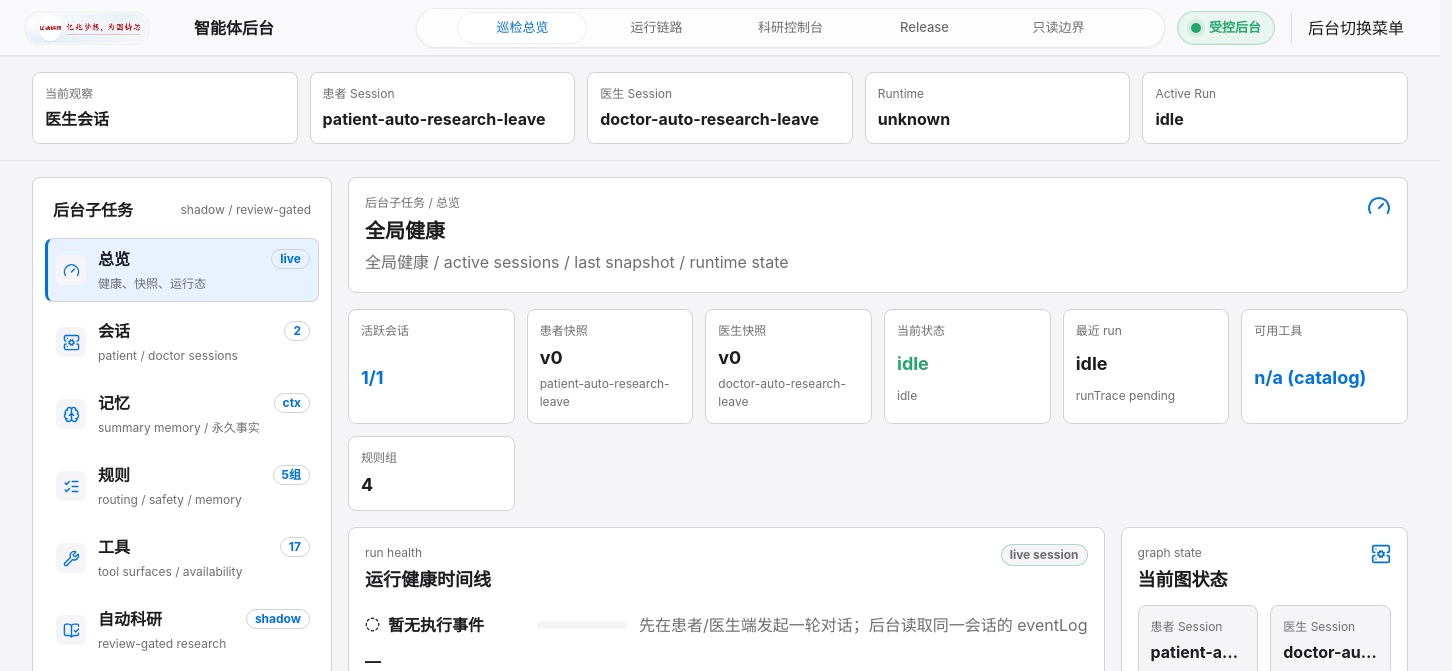
Test: AgentAdminView › cancels orphaned detail loading when leaving and re-entering automatic research
Click the button "自动科研 shadow review-gated research". click: (130,619)
box: [45, 598, 319, 662]
(page scrolled)
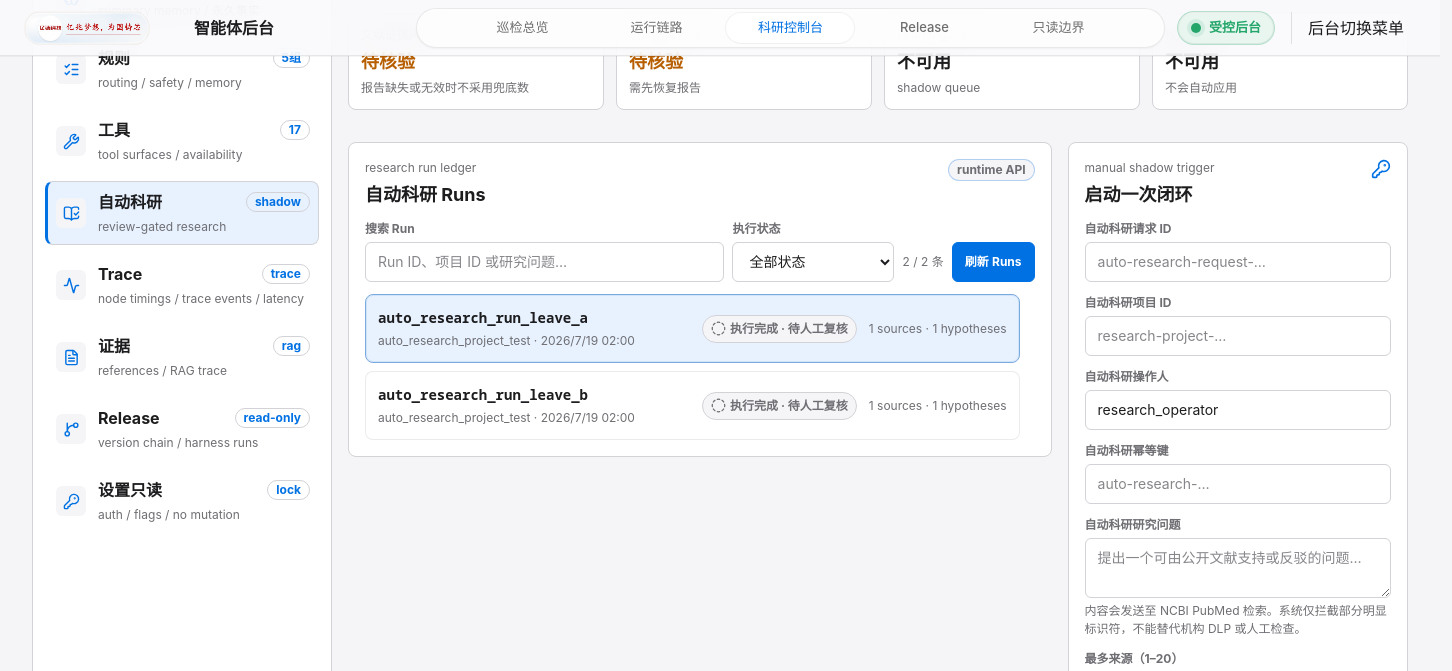
Click the button "auto_research_run_leave_b". click: (483,394)
box: [365, 371, 1020, 440]
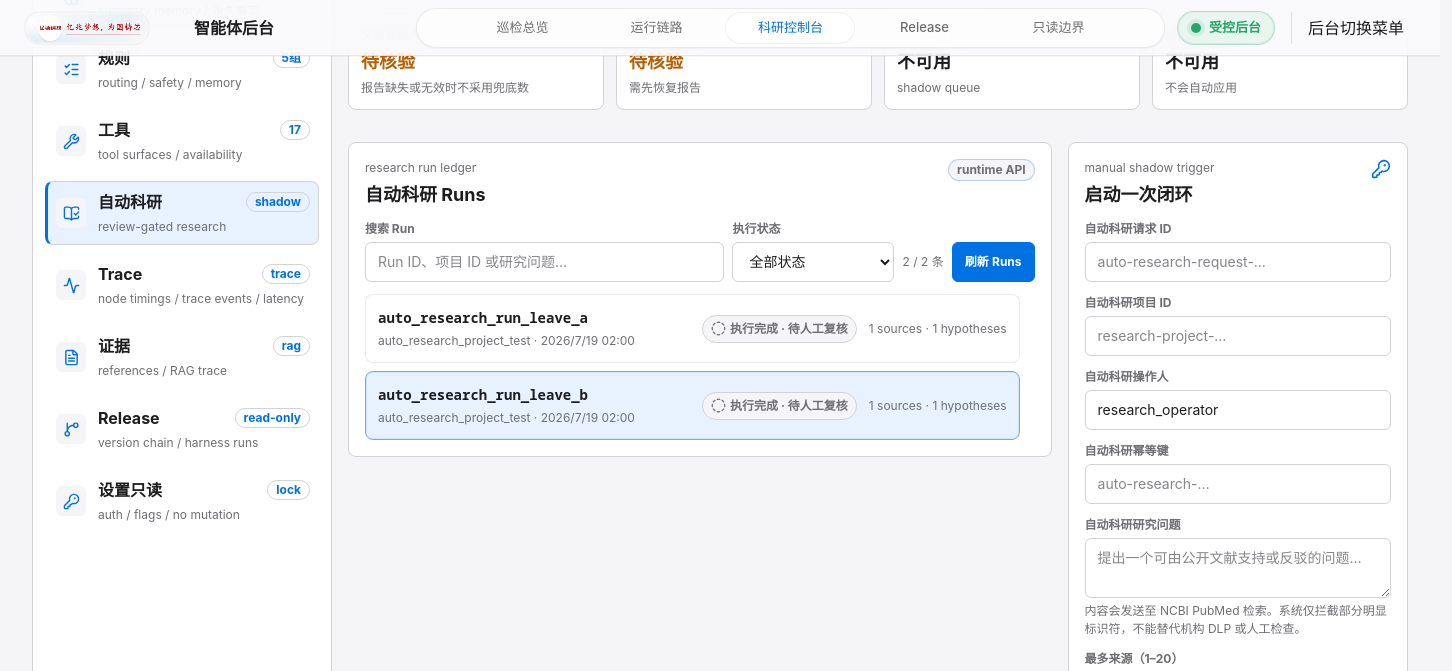
Click the button "巡检总览". click: (522,28)
box: [458, 12, 588, 44]
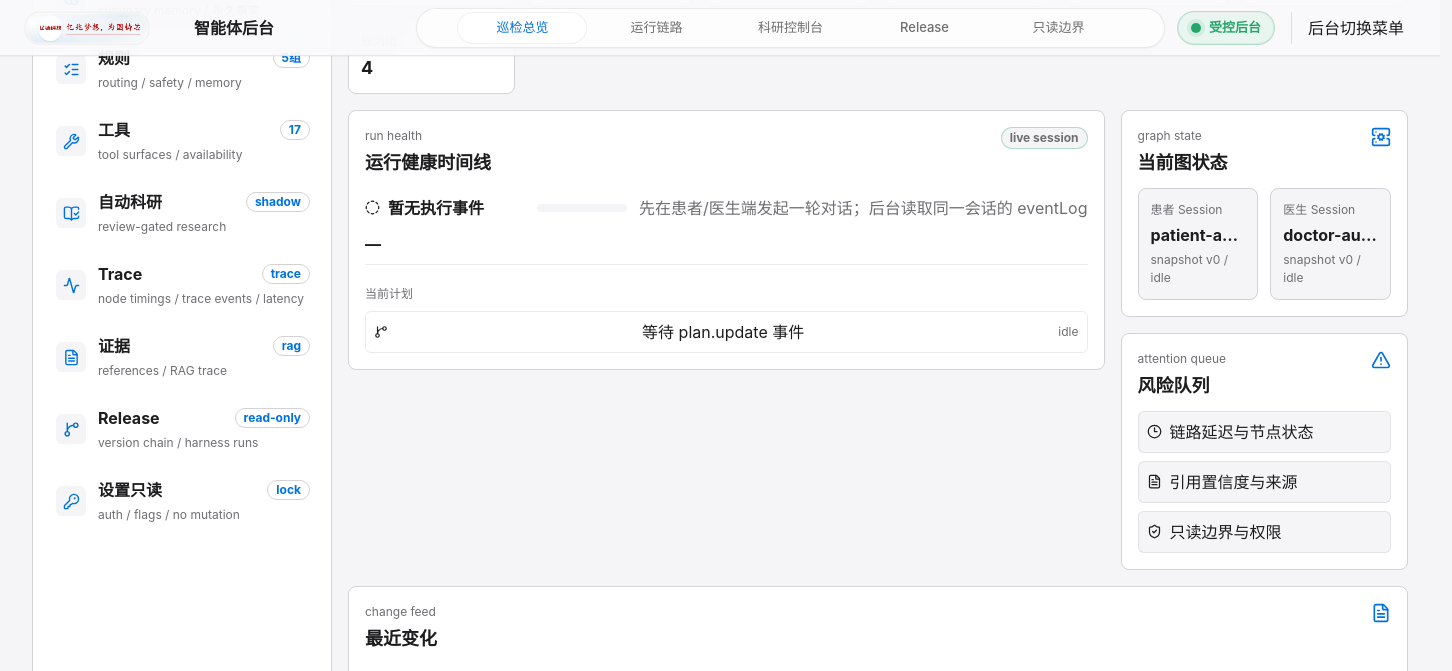
Click the button "自动科研 shadow review-gated research". click: (130,202)
box: [45, 181, 319, 245]
(page scrolled)
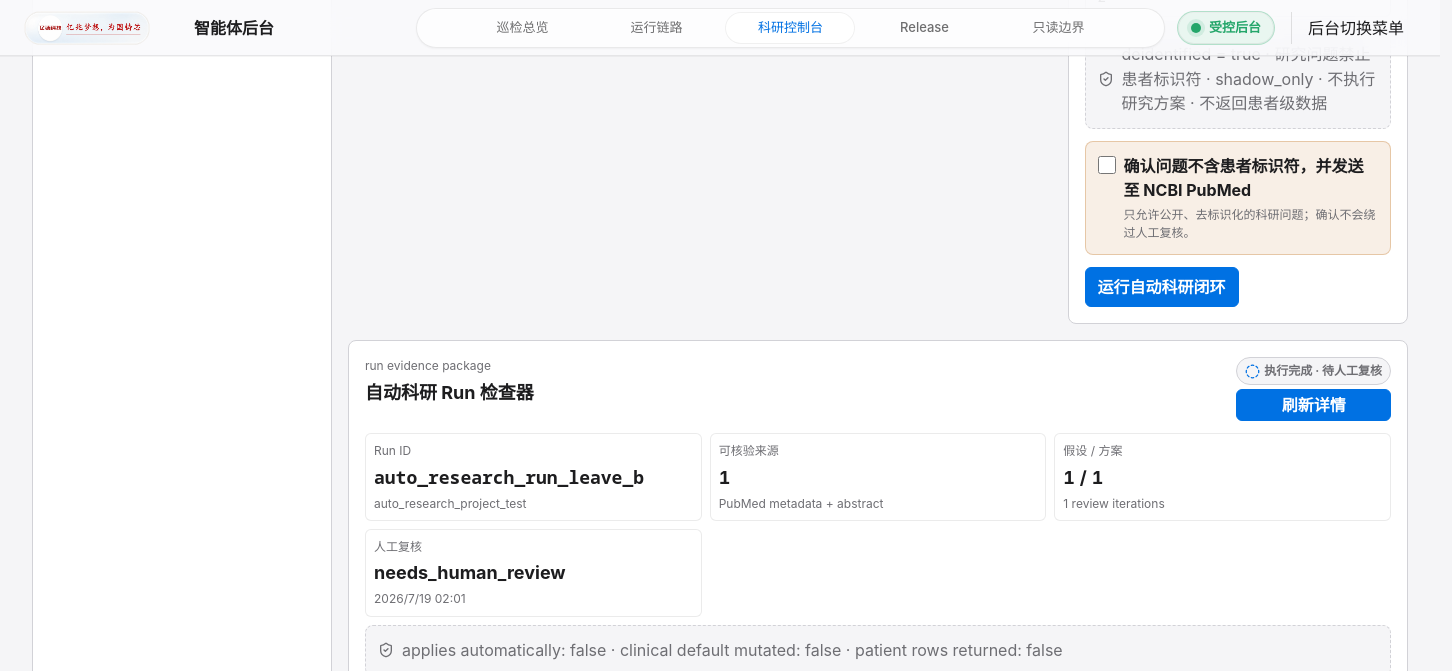
Check: the button "刷新详情" is enabled
Click the button "刷新详情". click: (1314,405)
box: [1236, 389, 1391, 421]
(page scrolled)
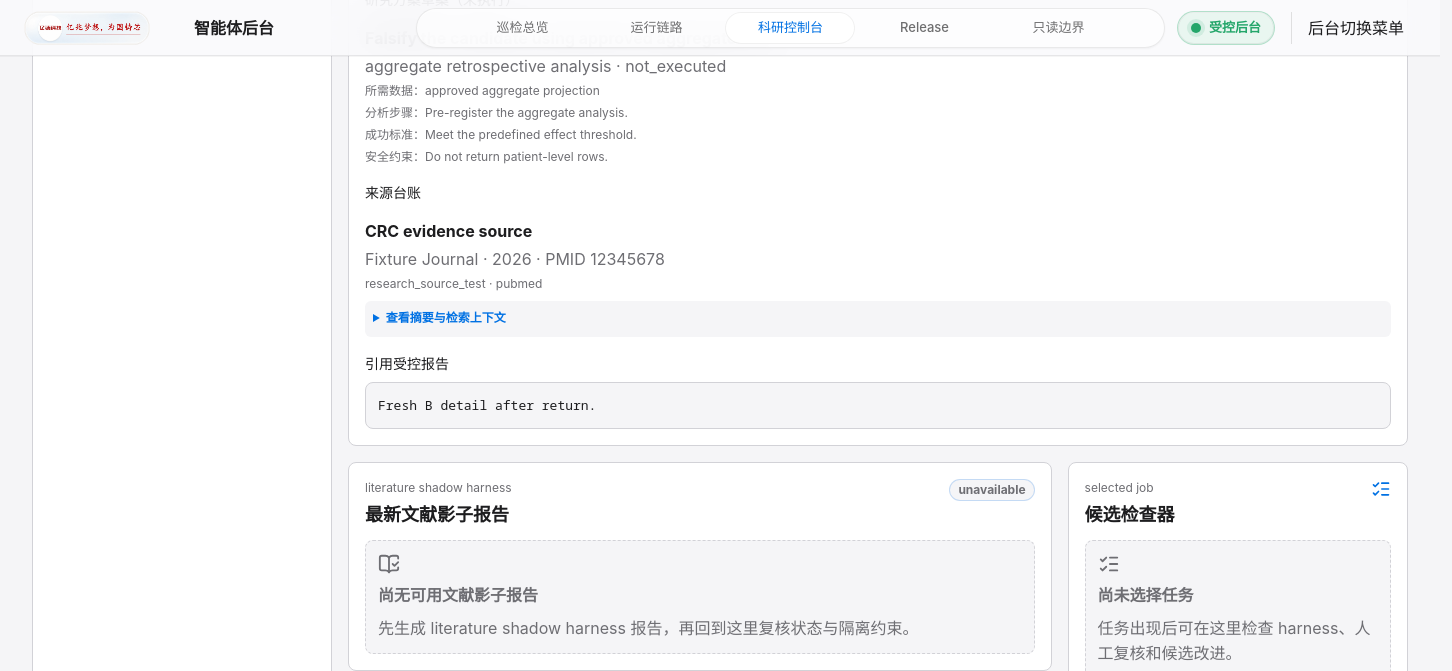
Check: the text "Fresh B detail after return." is shown, box [365, 382, 1391, 429]
